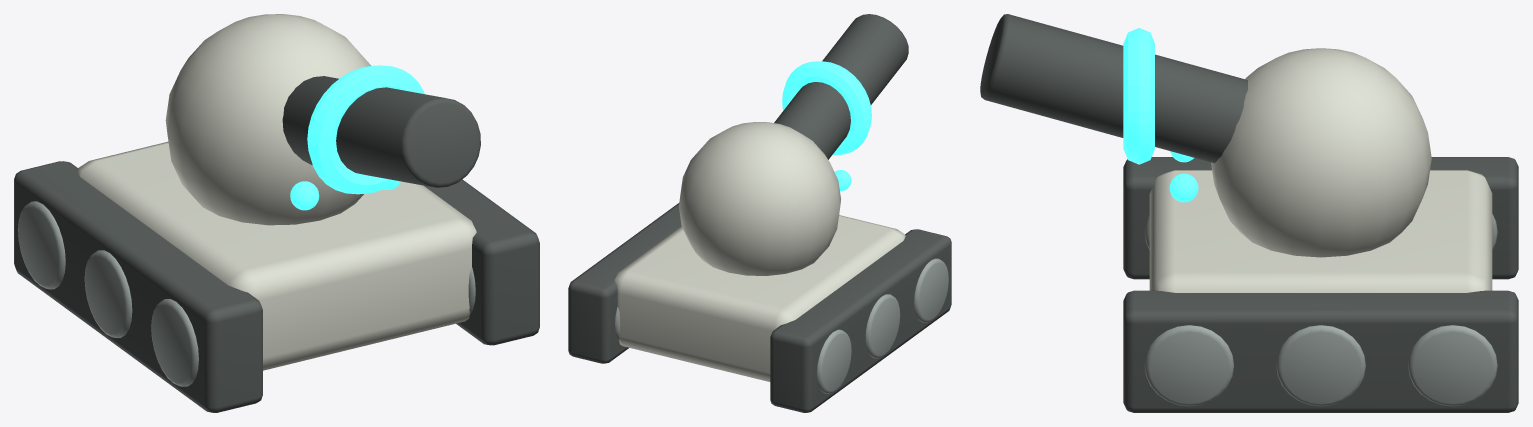
Rendered from card_mortar.glb.
The picture shows the model from 3 angles, left to right: view 1: azimuth 30°, elevation 25°; view 2: azimuth 150°, elevation 25°; view 3: azimuth 270°, elevation 25°; orthographic projection. The views are drawn at different scales.
Parts seen in each view (by area): view 1: card_mortar; view 2: card_mortar; view 3: card_mortar.
Boxes of the visible parts, box(x1,y1,x2,y2) form: card_mortar: box(14, 14, 539, 412); card_mortar: box(568, 14, 951, 412); card_mortar: box(980, 14, 1518, 412).
Bounding box in the file's own units: 1.49 × 1.33 × 2.04.
